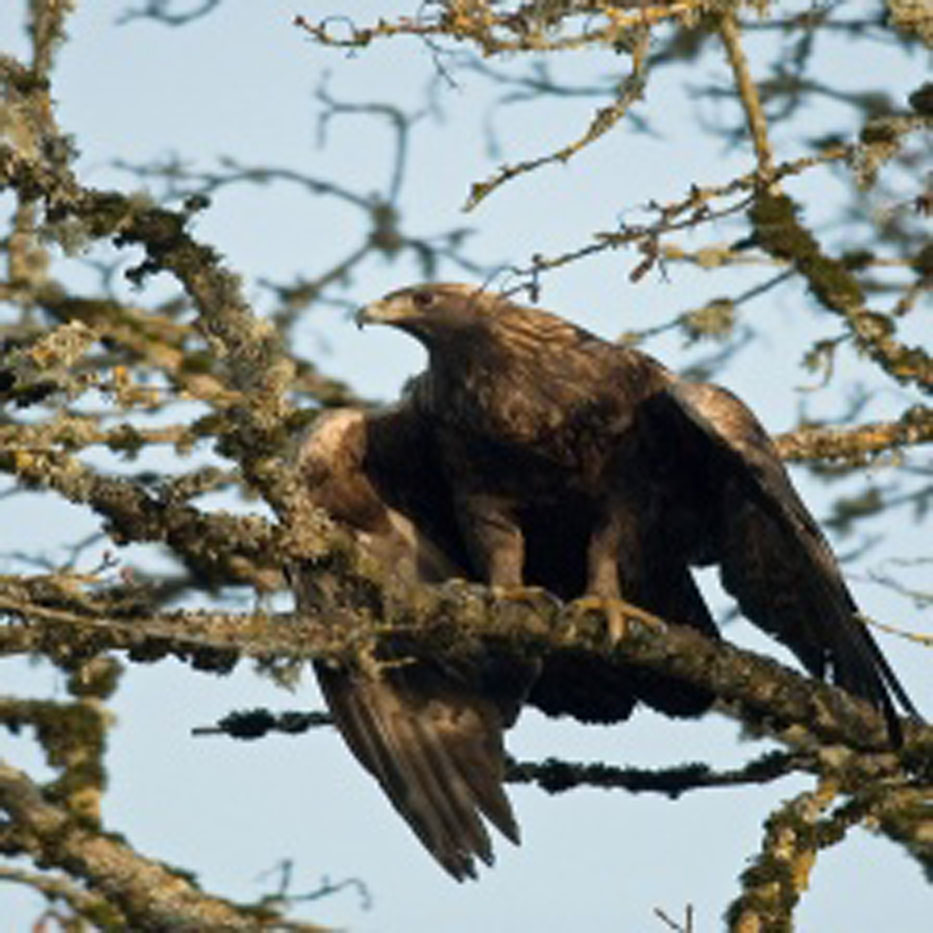Pengoyak Daging: (338, 291, 392, 336)
